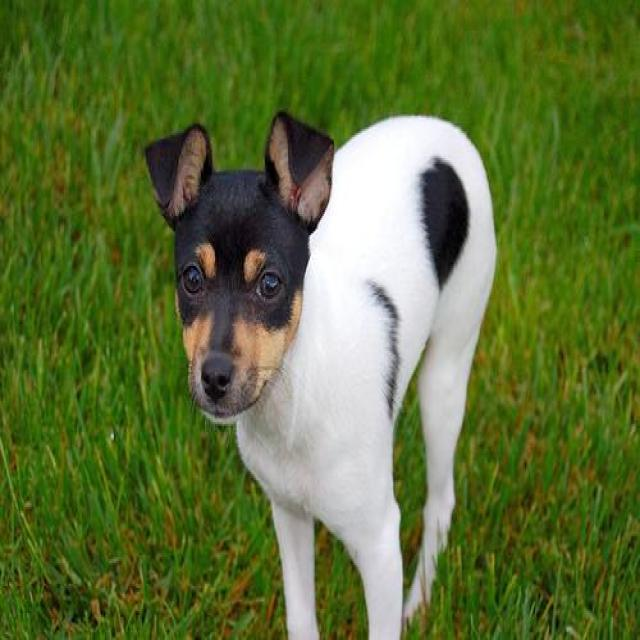toy_terrier: (138, 106, 507, 636)
